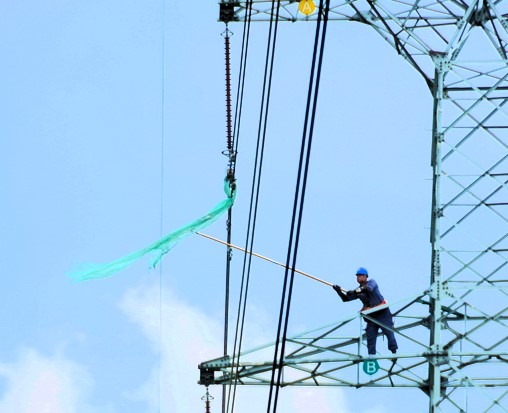wire foreign body: (66, 167, 246, 288)
